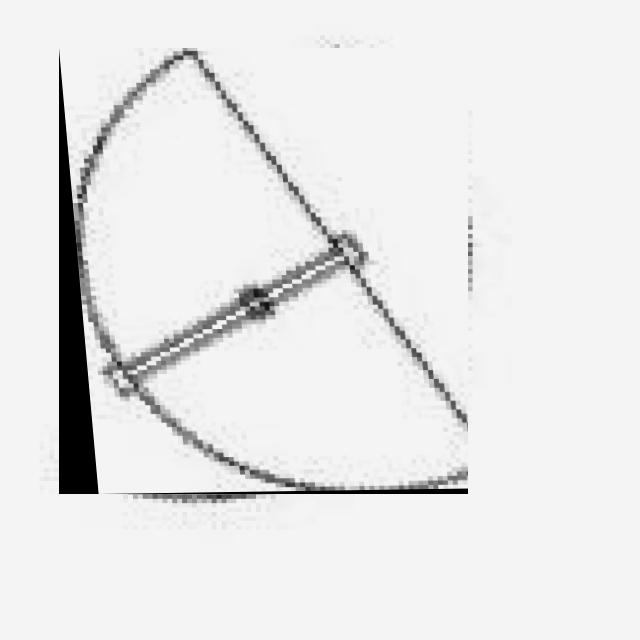door: (59, 48, 468, 494)
